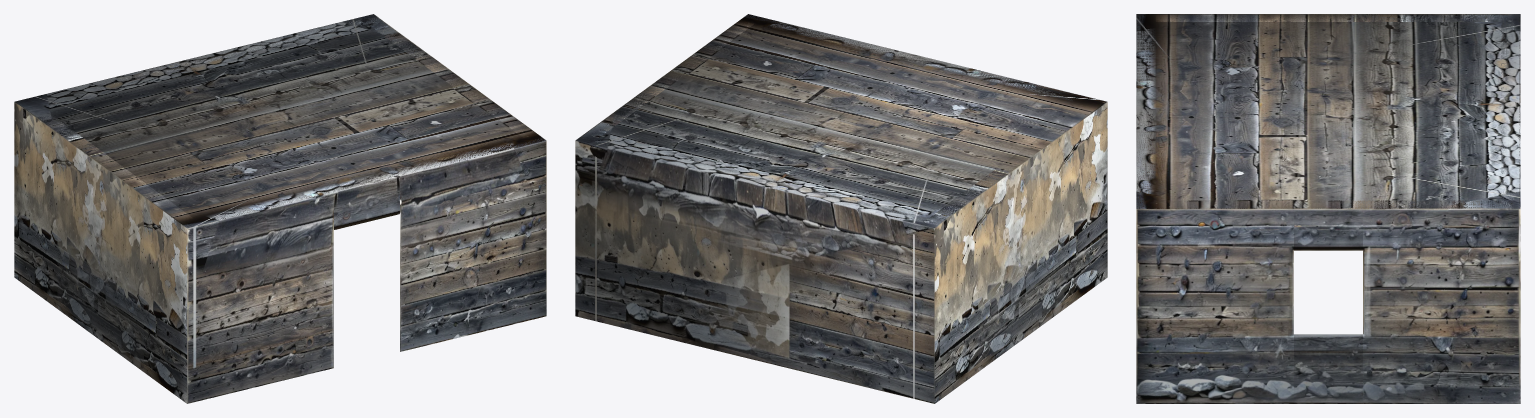
File: skin_forest_-10_190.glb
3 renders of one model, left to right at view 1: azimuth 30°, elevation 25°; view 2: azimuth 150°, elevation 25°; view 3: azimuth 270°, elevation 25°, orthographic. The views are drawn at different scales.
Visible parts, largest first — view 1: forest_-10_190; view 2: forest_-10_190; view 3: forest_-10_190.
Boxes of the visible parts, x1,y1,x2,y2 form: forest_-10_190: (14,14,546,403); forest_-10_190: (575,14,1107,403); forest_-10_190: (1136,14,1520,403).
Bounding box in the file's own units: 6 × 2.8 × 5.
Materials: 1 (1 with a texture image).
